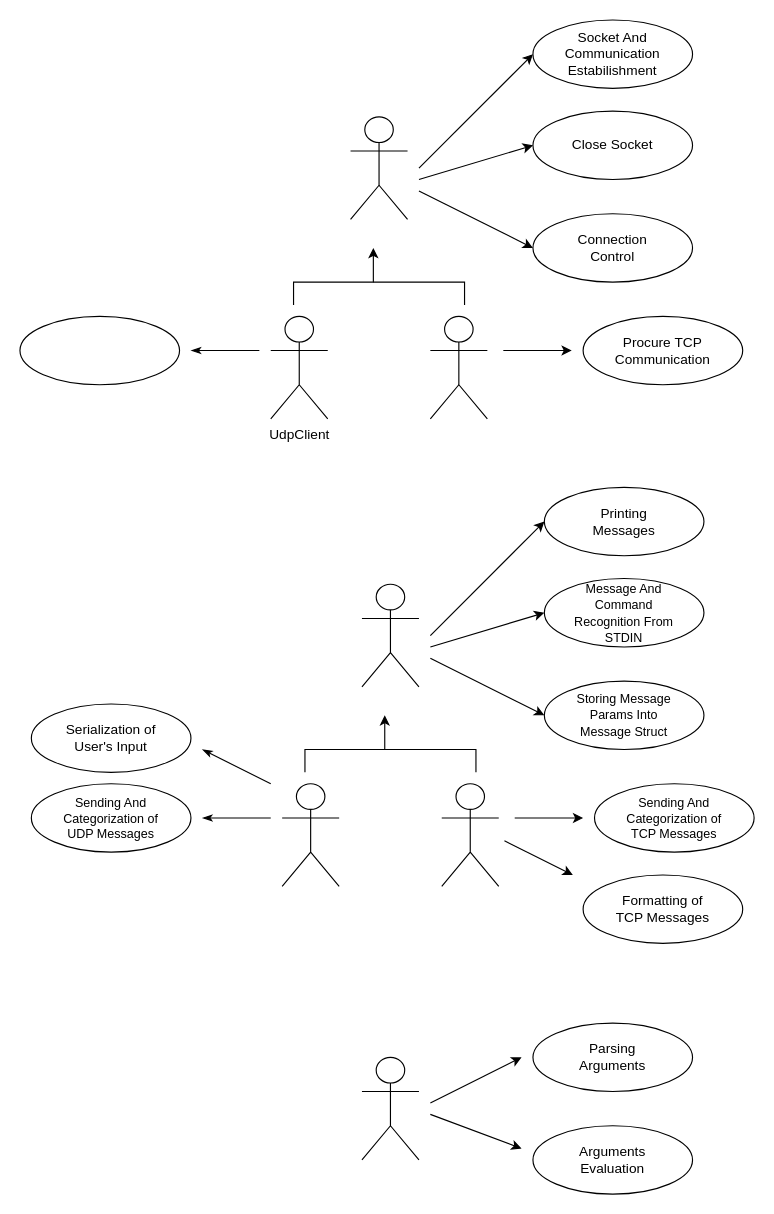
The diagram is 774 pixels wide and 1214 high, and some of its shapes have lost their labels. Here are the shapes that lost their labels. From the top down, the centre of each, then its label:
pixel 378 167: BaseClient
pixel 99 350: Procure UDP Communication
pixel 458 367: TcpClient
pixel 390 635: BaseMesssages
pixel 310 834: UdpMessages
pixel 470 834: TcpMessages
pixel 390 1108: Arguments
